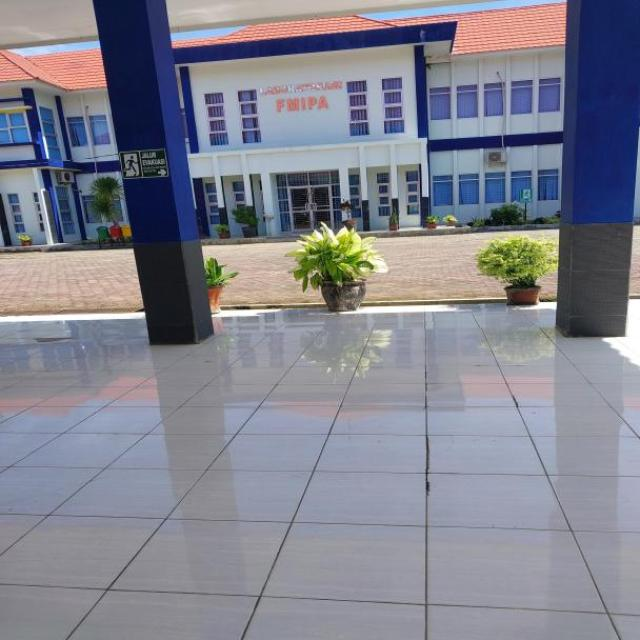plant ahead at: (87, 0, 222, 348), (290, 216, 390, 318), (472, 232, 556, 307)
